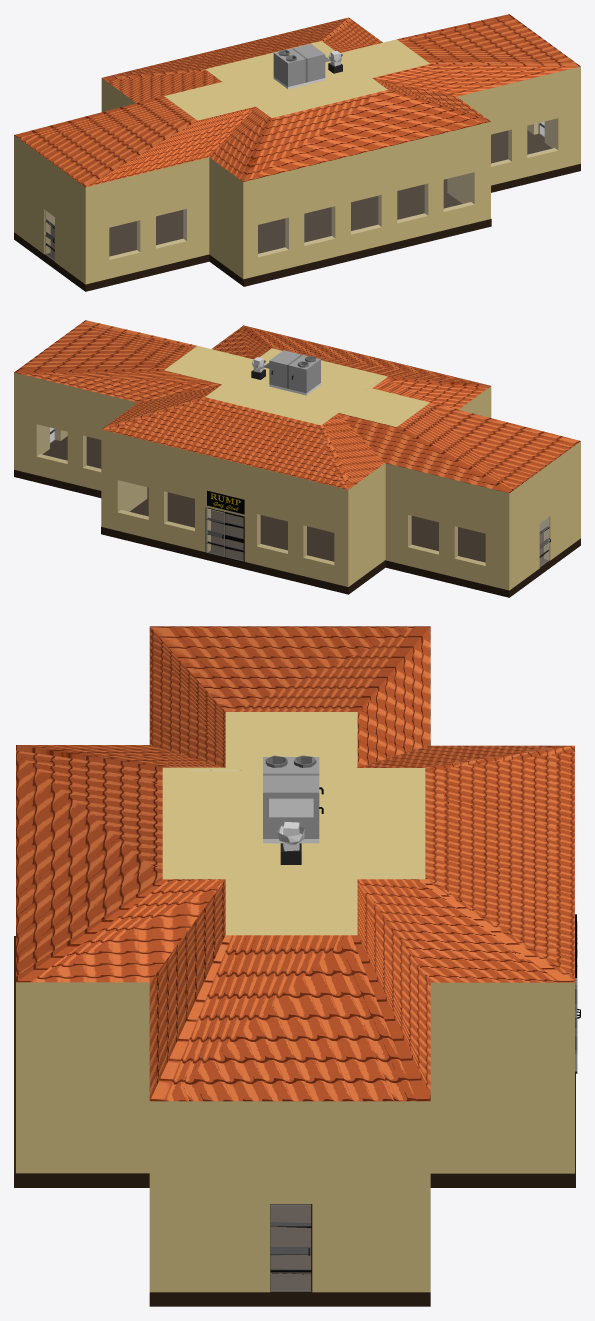
The model's file is Golf Clubhouse.glb.
3 renders of one model, top to bottom at view 1: azimuth 30°, elevation 25°; view 2: azimuth 150°, elevation 25°; view 3: azimuth 270°, elevation 25°, orthographic. The views are drawn at different scales.
Visible parts, largest first — view 1: Exterior Walls, Floor, RTU, Storefront Door.003; view 2: Exterior Walls, Floor, RTU, Storefront Door, Storefront Door.001, Sign, Storefront Door.003; view 3: Exterior Walls, Floor, RTU, Storefront Door.002.
Boxes of the visible parts, <box> form: Exterior Walls: <box>14,14,580,284</box>; Floor: <box>14,130,580,291</box>; RTU: <box>273,44,342,89</box>; Storefront Door.003: <box>44,210,54,260</box>; Exterior Walls: <box>14,320,580,590</box>; Floor: <box>14,436,580,597</box>; RTU: <box>251,350,320,395</box>; Storefront Door: <box>225,512,244,562</box>; Storefront Door.001: <box>205,507,224,557</box>; Sign: <box>207,490,244,514</box>; Storefront Door.003: <box>539,516,550,566</box>; Exterior Walls: <box>16,626,574,1292</box>; Floor: <box>14,936,575,1306</box>; RTU: <box>263,755,323,864</box>; Storefront Door.002: <box>270,1204,311,1291</box>.
Size of what is drawn, in the model's own units: 24.53 by 7.18 by 12.3.
15 materials, 1 textured.
